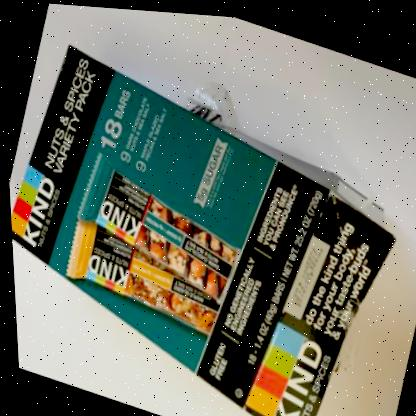Paper: (9, 45, 393, 416)
